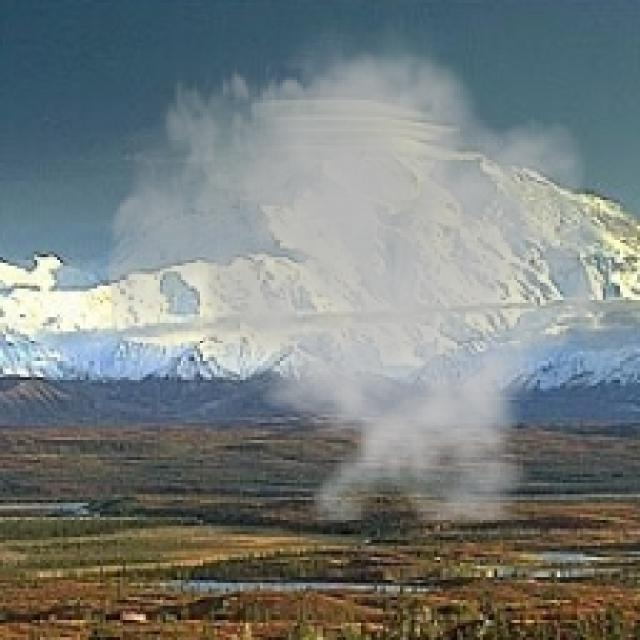smoke: (105, 3, 626, 520)
